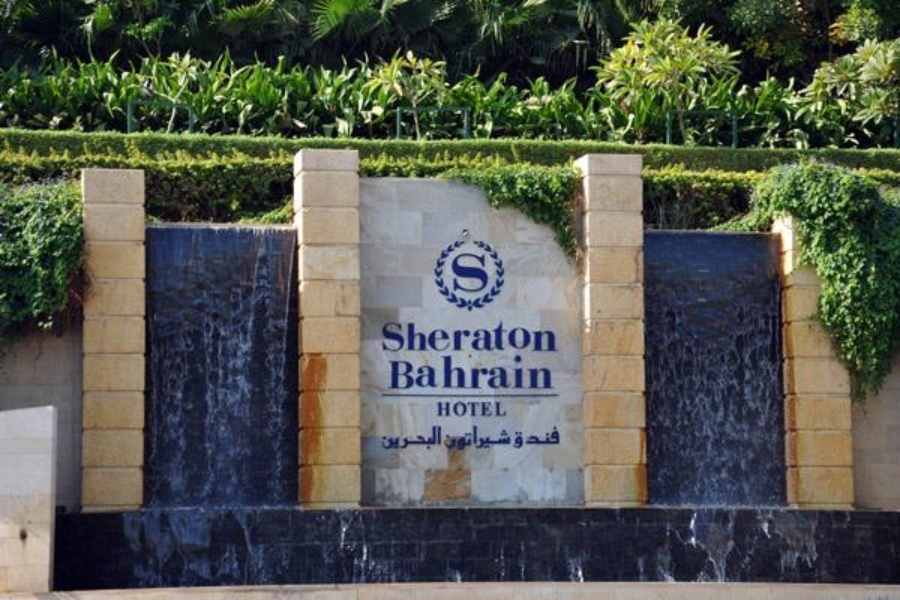text: (465, 253, 480, 293), (401, 353, 416, 392), (417, 353, 432, 392), (433, 353, 448, 392), (449, 353, 464, 392), (465, 353, 480, 392), (481, 353, 496, 392), (497, 353, 512, 392), (513, 353, 528, 392), (529, 353, 544, 392), (451, 253, 464, 293), (385, 320, 400, 353), (401, 320, 416, 353), (417, 320, 432, 353), (433, 320, 448, 353), (449, 320, 464, 353), (465, 320, 480, 353), (481, 320, 496, 353), (497, 320, 512, 353), (513, 320, 528, 353), (529, 320, 544, 353), (388, 353, 400, 392), (513, 424, 528, 451), (529, 424, 544, 451), (545, 424, 560, 451), (449, 425, 464, 452), (465, 425, 480, 452), (481, 425, 496, 452), (497, 425, 512, 452), (545, 320, 557, 353), (385, 425, 400, 451), (401, 425, 416, 451), (417, 425, 432, 451), (481, 253, 490, 293), (545, 353, 554, 392), (433, 425, 443, 451), (449, 401, 464, 417), (465, 401, 480, 417), (481, 401, 496, 417), (437, 401, 448, 417), (497, 401, 508, 417), (380, 320, 384, 353), (445, 425, 448, 452), (382, 425, 384, 451), (561, 424, 562, 451)
